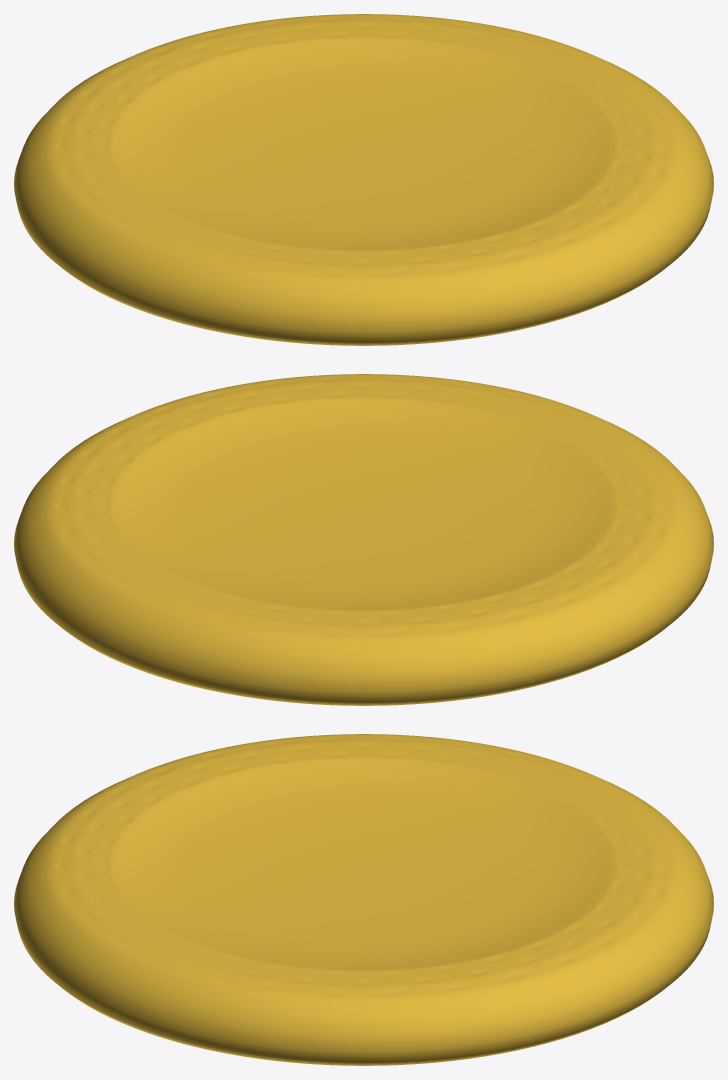
File: A-NEW-20261026-FLYING-DISC-001_LOD1_R1.fbx
3 views of the same model, one above another, from view 1: azimuth 30°, elevation 25°; view 2: azimuth 150°, elevation 25°; view 3: azimuth 270°, elevation 25° (orthographic).
Parts seen in each view (by area): view 1: hollow flying disc; view 2: hollow flying disc; view 3: hollow flying disc.
Boxes of the visible parts, left/top/right/bottom form: hollow flying disc: left=14, top=14, right=713, bottom=345; hollow flying disc: left=14, top=374, right=713, bottom=705; hollow flying disc: left=14, top=734, right=713, bottom=1065.
Size of the model in its own units: 27.4 by 2.5 by 27.4.
